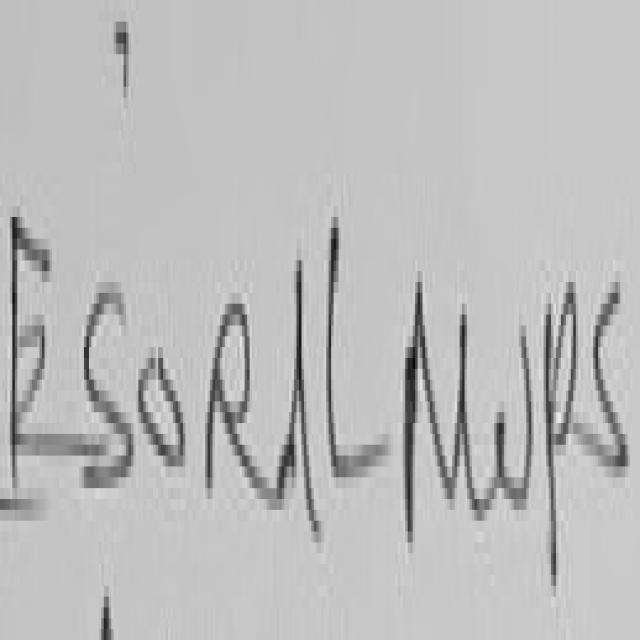A: (270, 196, 320, 556)
E: (4, 121, 84, 507)
L: (322, 169, 389, 532)
M: (396, 203, 486, 584)
O: (136, 286, 189, 502)
R: (202, 226, 263, 552)
S: (72, 233, 134, 524)
p: (542, 244, 580, 619)
s: (585, 226, 637, 516)
u: (488, 282, 540, 540)
